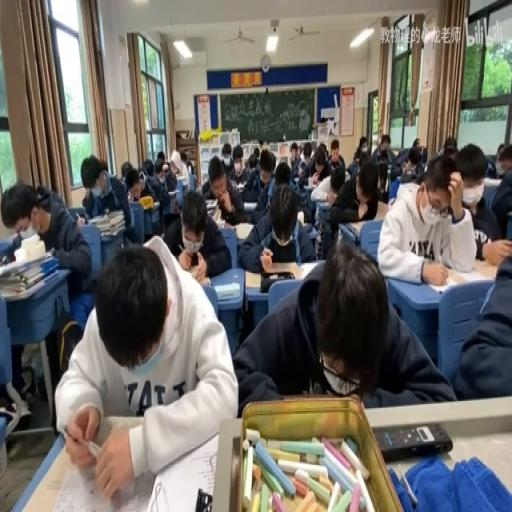calculator: (51, 448, 154, 509), (243, 259, 308, 284), (0, 250, 45, 279), (426, 268, 470, 292), (470, 256, 502, 279), (214, 282, 240, 300), (370, 199, 390, 221), (314, 200, 332, 224), (346, 219, 370, 235), (234, 222, 252, 242), (99, 222, 125, 235), (483, 175, 502, 189), (19, 226, 38, 239), (219, 218, 235, 230), (204, 196, 218, 209), (88, 212, 106, 222), (212, 205, 222, 222), (304, 175, 317, 188), (242, 201, 258, 209), (234, 182, 246, 192), (149, 199, 159, 209), (167, 189, 178, 196)
paper: (57, 235, 237, 496), (234, 242, 451, 415), (1, 178, 90, 398), (378, 148, 477, 283), (451, 245, 512, 401), (237, 180, 317, 268), (163, 188, 231, 282), (326, 158, 379, 250), (84, 154, 134, 244), (202, 151, 246, 210), (485, 145, 512, 239), (137, 158, 172, 222), (302, 142, 332, 184), (369, 132, 398, 174), (397, 144, 426, 182), (350, 135, 368, 171), (326, 138, 345, 172), (287, 142, 303, 181), (258, 148, 274, 179), (274, 158, 290, 186), (172, 168, 190, 189), (182, 150, 194, 174), (378, 162, 388, 189), (330, 176, 343, 196), (121, 159, 133, 179), (443, 135, 457, 151), (142, 159, 153, 178), (232, 146, 242, 164), (486, 160, 496, 178), (248, 154, 258, 169), (155, 151, 165, 166), (222, 145, 231, 161), (496, 142, 506, 156), (260, 140, 270, 154), (304, 148, 310, 162), (162, 162, 168, 174), (413, 138, 419, 148), (291, 149, 297, 158)
person: (374, 422, 452, 461), (194, 488, 213, 509)
